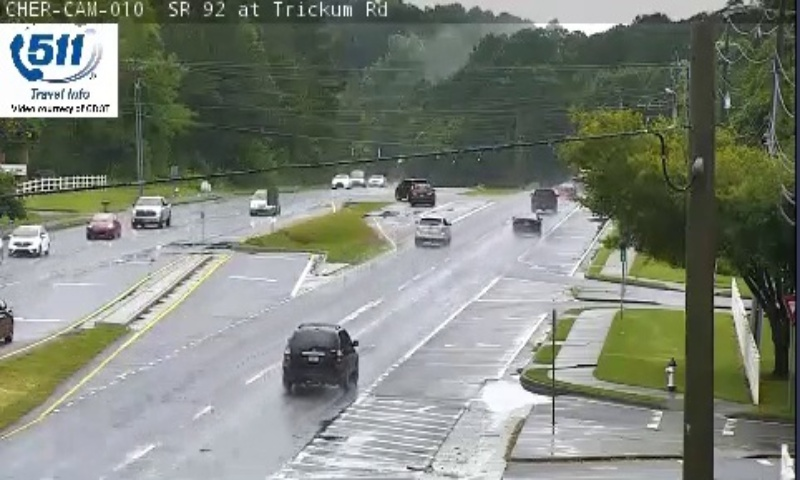car: (282, 324, 358, 386), (414, 214, 451, 243), (512, 211, 542, 234), (531, 187, 557, 212)
